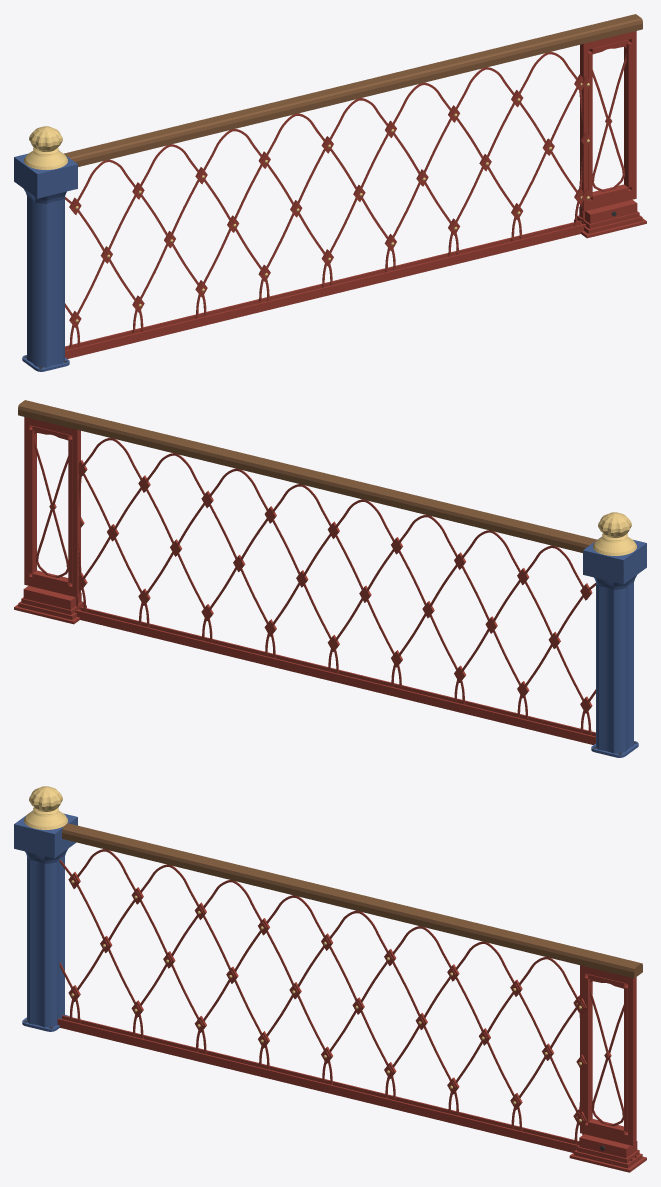
File: gallery-lattice-railing.glb
3 renders of one model, top to bottom at view 1: azimuth 30°, elevation 25°; view 2: azimuth 150°, elevation 25°; view 3: azimuth 330°, elevation 25°, orthographic.
Parts seen in each view (by area): view 1: Handrail, NewelPost, Lattice, FrameStandard, BottomChannel, Bosses; view 2: Handrail, NewelPost, Lattice, FrameStandard, BottomChannel, Bosses; view 3: Handrail, NewelPost, Lattice, FrameStandard, BottomChannel, Bosses.
Boxes of the visible parts, x1,y1,x2,y2 form: Handrail: (64,14,642,166); NewelPost: (14,126,77,371); Lattice: (65,52,584,349); FrameStandard: (574,31,646,238); BottomChannel: (65,220,585,358); Bosses: (69,74,591,327); Handrail: (18,400,596,552); NewelPost: (583,512,646,757); Lattice: (76,438,595,735); FrameStandard: (14,417,86,624); BottomChannel: (75,606,595,744); Bosses: (78,460,592,713); Handrail: (62,823,642,978); NewelPost: (14,786,77,1031); Lattice: (59,849,583,1144); FrameStandard: (569,965,646,1172); BottomChannel: (57,1015,637,1160); Bosses: (68,871,586,1127).
Bounding box in the file's own units: 3.07 × 1.12 × 0.203.
